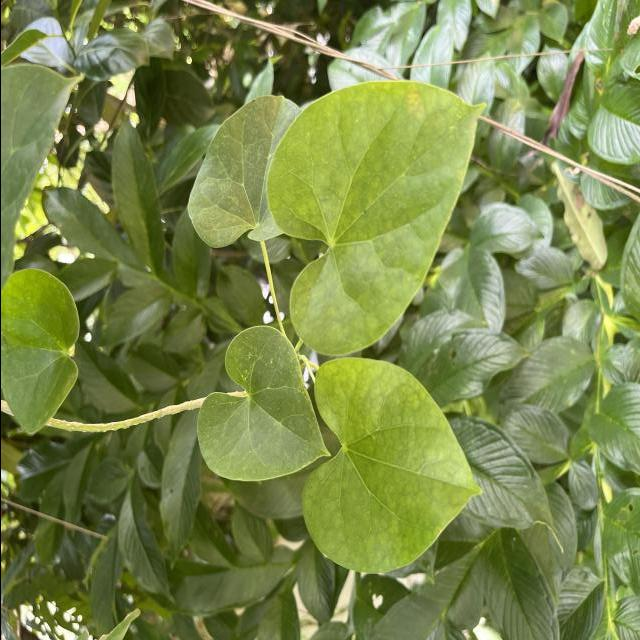Tinospora cordifolia: (262, 77, 490, 358), (298, 356, 484, 578), (192, 322, 334, 483)
